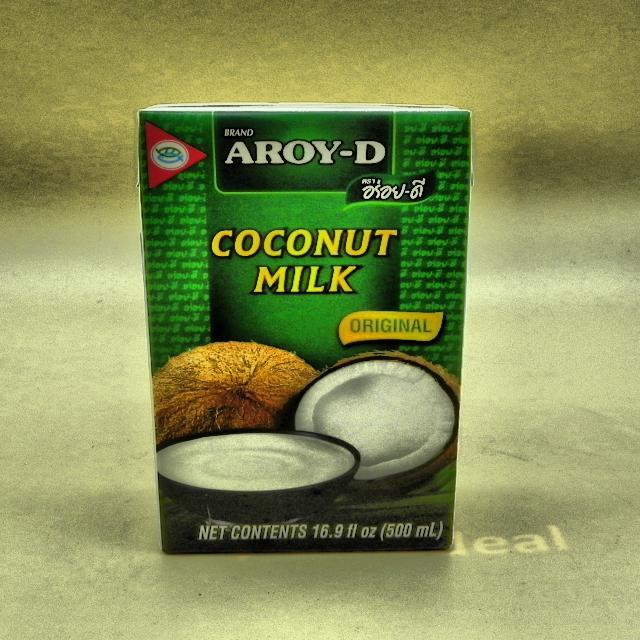cardboard: (138, 101, 472, 554)
